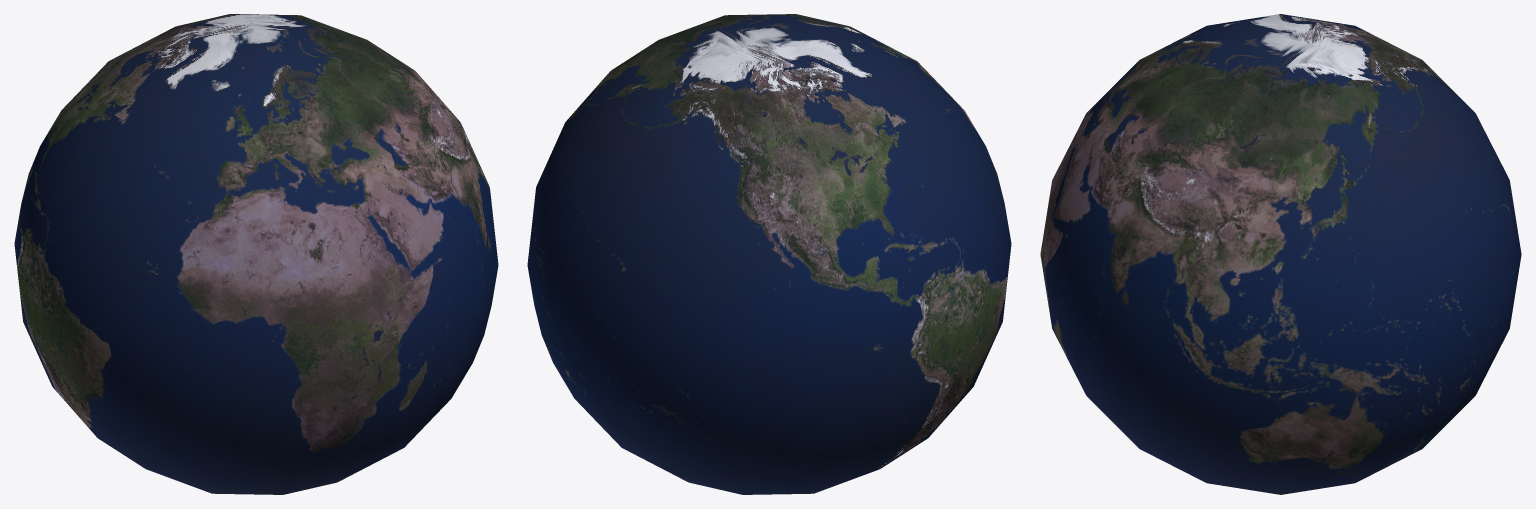
The model's file is earth.obj.
3 views of the same model, side by side, from view 1: azimuth 30°, elevation 25°; view 2: azimuth 150°, elevation 25°; view 3: azimuth 270°, elevation 25° (orthographic).
Visible parts, largest first — view 1: Mesh; view 2: Mesh; view 3: Mesh.
Part boxes in pixels (<box>): Mesh: <box>14,14,498,494</box>; Mesh: <box>527,14,1011,494</box>; Mesh: <box>1040,14,1521,494</box>.
Size of the model in its own units: 2 by 2 by 2.
Materials: 1 (1 with a texture image).
